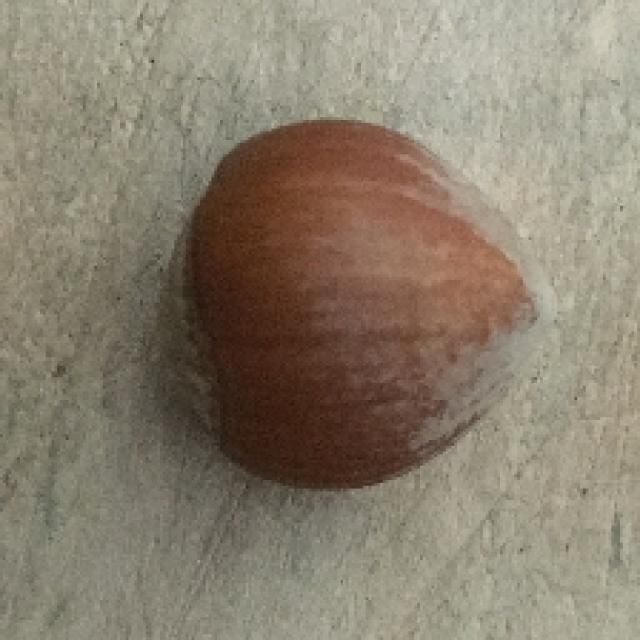qualityHazelnut: (164, 108, 555, 500)
